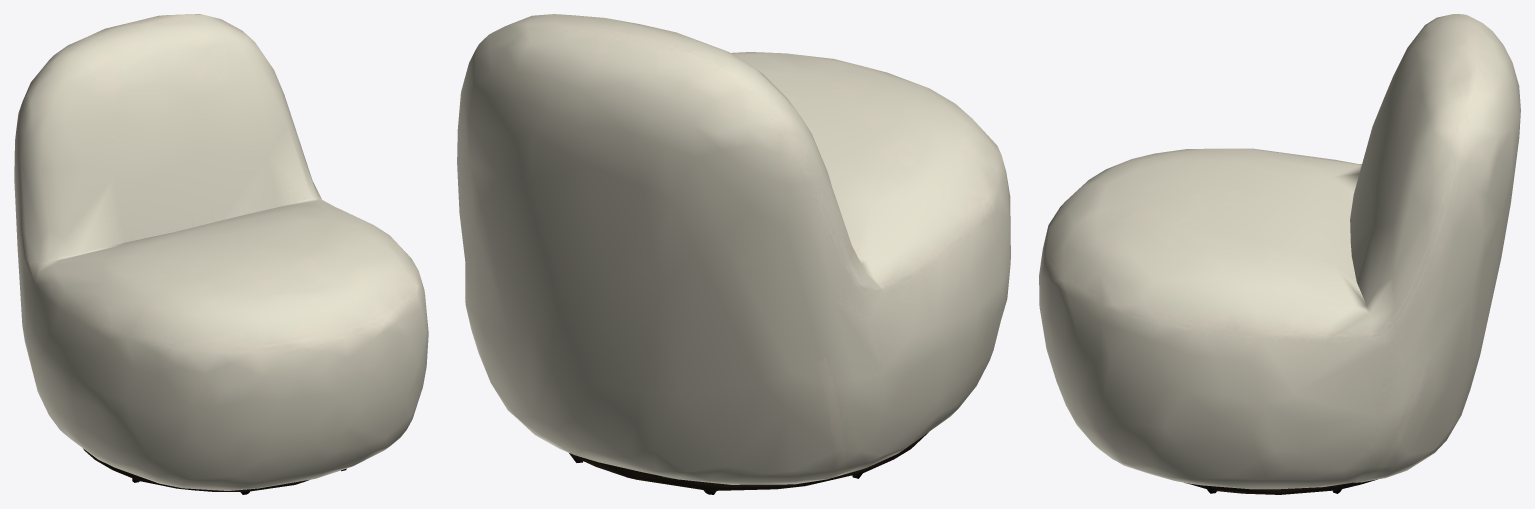
3 views of the same model, side by side, from view 1: azimuth 30°, elevation 25°; view 2: azimuth 150°, elevation 25°; view 3: azimuth 270°, elevation 25° (orthographic). The views are drawn at different scales.
Parts seen in each view (by area): view 1: ASY_ART_00618686_S01_NV01; view 2: ASY_ART_00618686_S01_NV01; view 3: ASY_ART_00618686_S01_NV01.
Part boxes in pixels (bbox=[...]): ASY_ART_00618686_S01_NV01: bbox=[14, 14, 428, 494]; ASY_ART_00618686_S01_NV01: bbox=[457, 14, 1010, 494]; ASY_ART_00618686_S01_NV01: bbox=[1039, 14, 1520, 494].
Bounding box in the file's own units: 0.7034 × 0.6997 × 0.7973.
1 material, 1 textured.
